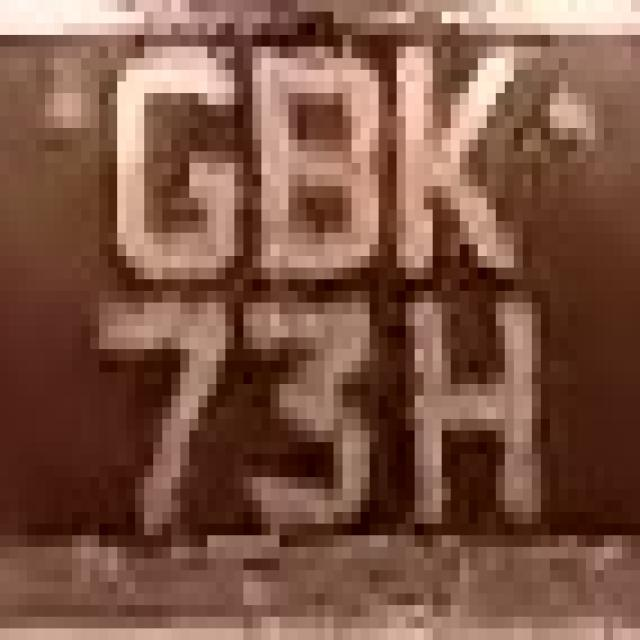3: (216, 279, 379, 559)
7: (90, 268, 225, 582)
B: (234, 35, 406, 326)
G: (81, 23, 253, 314)
H: (378, 279, 550, 570)
K: (378, 35, 514, 314)
